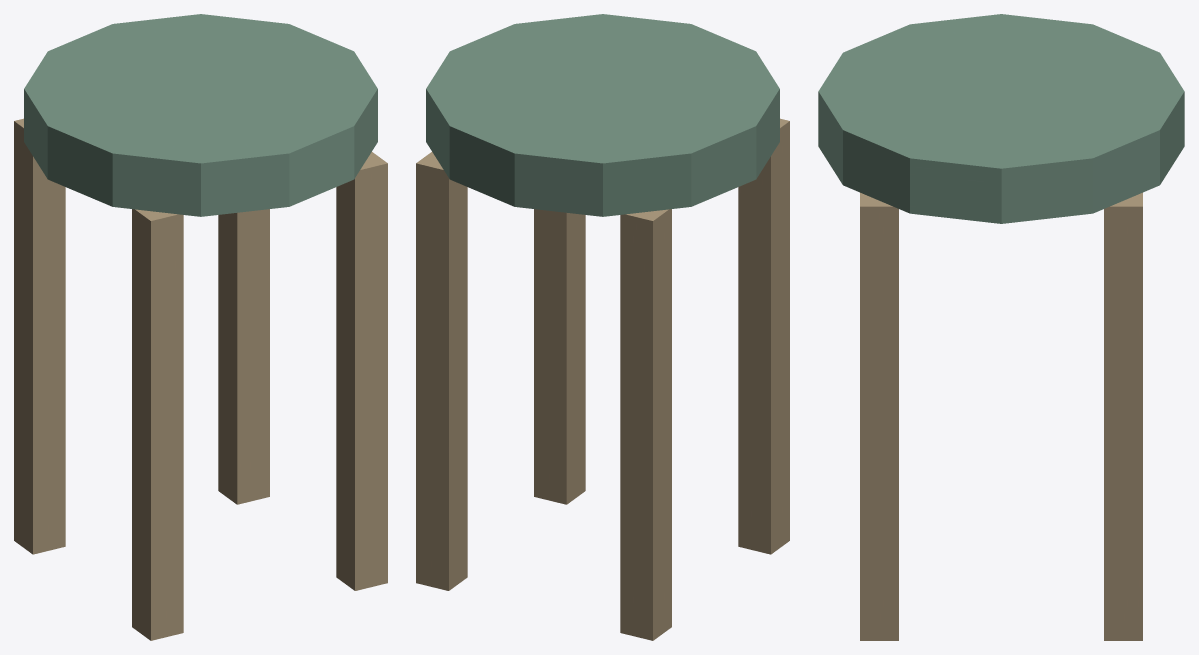
File: round_stool.glb
3 renders of one model, left to right at view 1: azimuth 30°, elevation 25°; view 2: azimuth 150°, elevation 25°; view 3: azimuth 270°, elevation 25°, orthographic. The views are drawn at different scales.
Parts seen in each view (by area): view 1: round_stool; view 2: round_stool; view 3: round_stool.
Boxes of the visible parts, x1,y1,x2,y2 form: round_stool: (14, 14, 387, 640); round_stool: (416, 14, 789, 640); round_stool: (818, 14, 1184, 640).
Size of the model in its own units: 0.42 by 0.62 by 0.42.
Materials: 1 (1 with a texture image).
